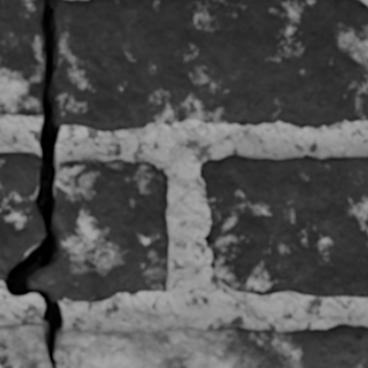brick: (200, 155, 367, 296)
broken_brick: (56, 0, 367, 132), (33, 157, 169, 302), (54, 323, 367, 367), (0, 150, 43, 280), (0, 0, 42, 116), (0, 321, 50, 367)
crack: (2, 0, 65, 367), (125, 332, 158, 337), (0, 111, 8, 113)
